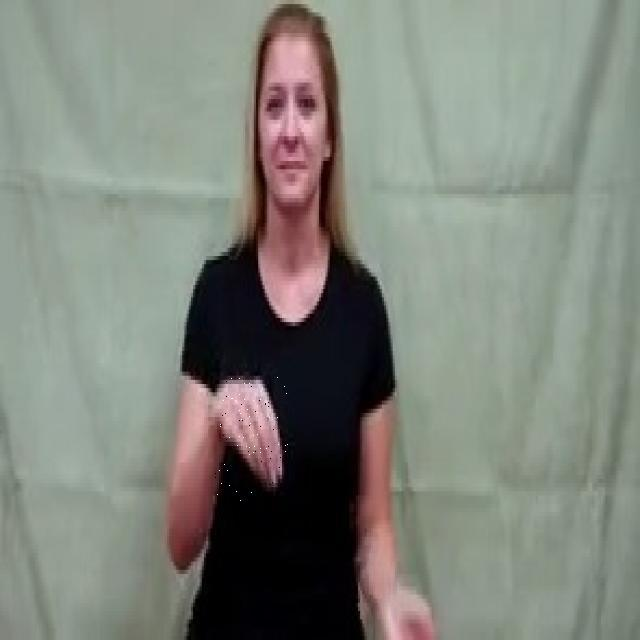ingredients: (215, 372, 293, 502)
